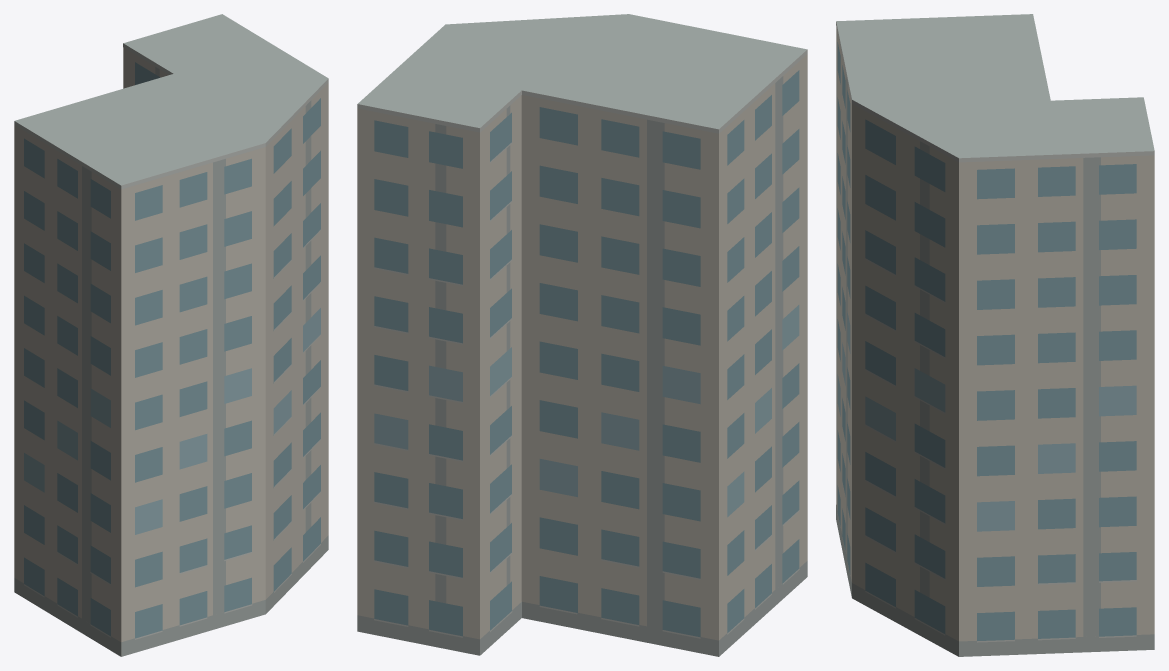
The model's file is residential-e2413f62-be7a-4f02-ae55-bbfdbb3879b9.glb.
The picture shows the model from 3 angles, left to right: view 1: azimuth 30°, elevation 25°; view 2: azimuth 150°, elevation 25°; view 3: azimuth 270°, elevation 25°; orthographic projection. The views are drawn at different scales.
Parts seen in each view (by area): view 1: residential-e2413f62-be7a-4f02-ae55-bbfdbb3879b9.tmp; view 2: residential-e2413f62-be7a-4f02-ae55-bbfdbb3879b9.tmp; view 3: residential-e2413f62-be7a-4f02-ae55-bbfdbb3879b9.tmp.
Boxes of the visible parts, <box> form: residential-e2413f62-be7a-4f02-ae55-bbfdbb3879b9.tmp: <box>14,14,328,656</box>; residential-e2413f62-be7a-4f02-ae55-bbfdbb3879b9.tmp: <box>357,14,807,656</box>; residential-e2413f62-be7a-4f02-ae55-bbfdbb3879b9.tmp: <box>836,14,1154,656</box>.
Size of the model in its own units: 18 by 29 by 16.8.
